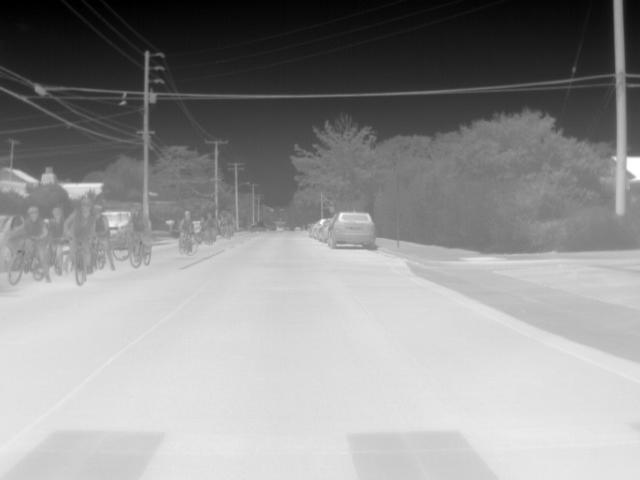car: (326, 210, 379, 251), (100, 209, 131, 234), (0, 212, 26, 240), (310, 218, 329, 237), (318, 221, 332, 241), (249, 222, 266, 234)
person: (6, 202, 51, 266), (63, 198, 102, 246), (124, 200, 154, 250), (48, 204, 71, 242), (178, 207, 196, 244)
